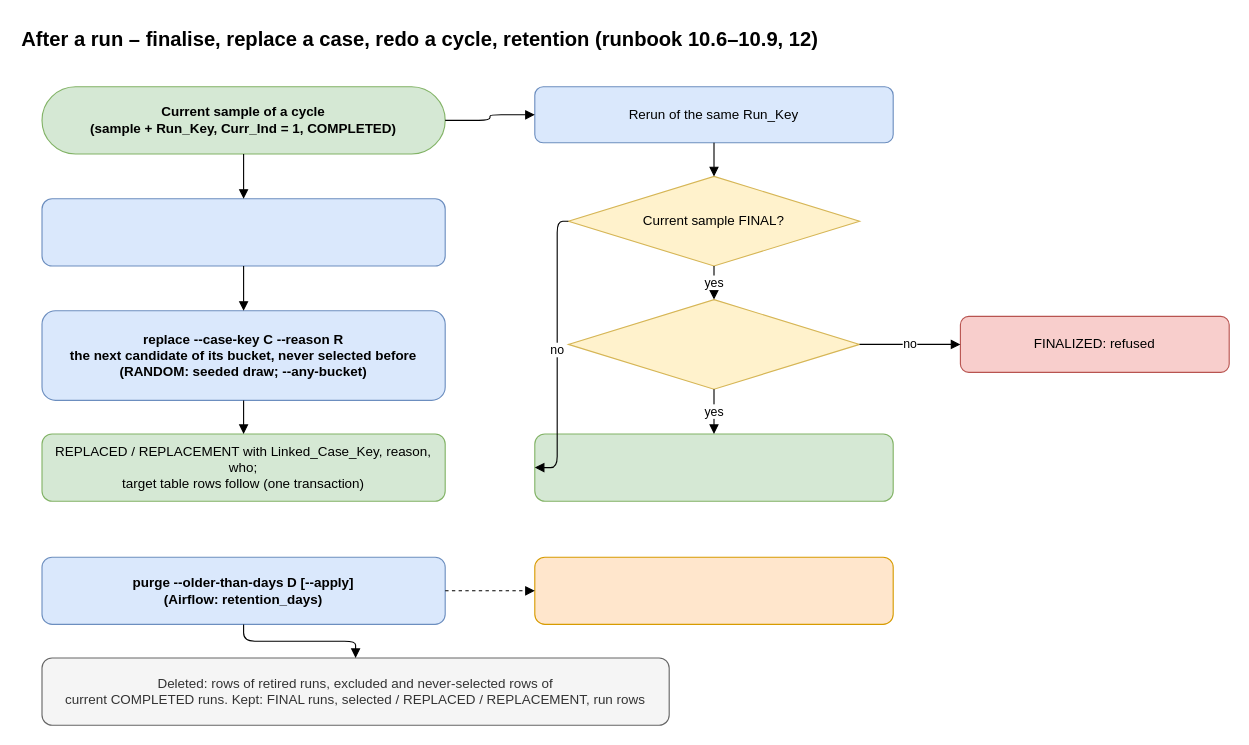
Image size: 1249x745. Some labels were removed from this diagram. Here are the shapes that lost their labels. From the top down, the centre of each, then its label:
(x=243, y=232): finalize --run-key K Run_Stat FINAL, Finalized_By / _Dtts
(x=713, y=343): force_reason given?
(x=713, y=467): New run becomes current the earlier one Curr_Ind = 0 (Override_Rsn_Txt kept)
(x=713, y=590): D shorter than the longest history lookback: sample skipped
